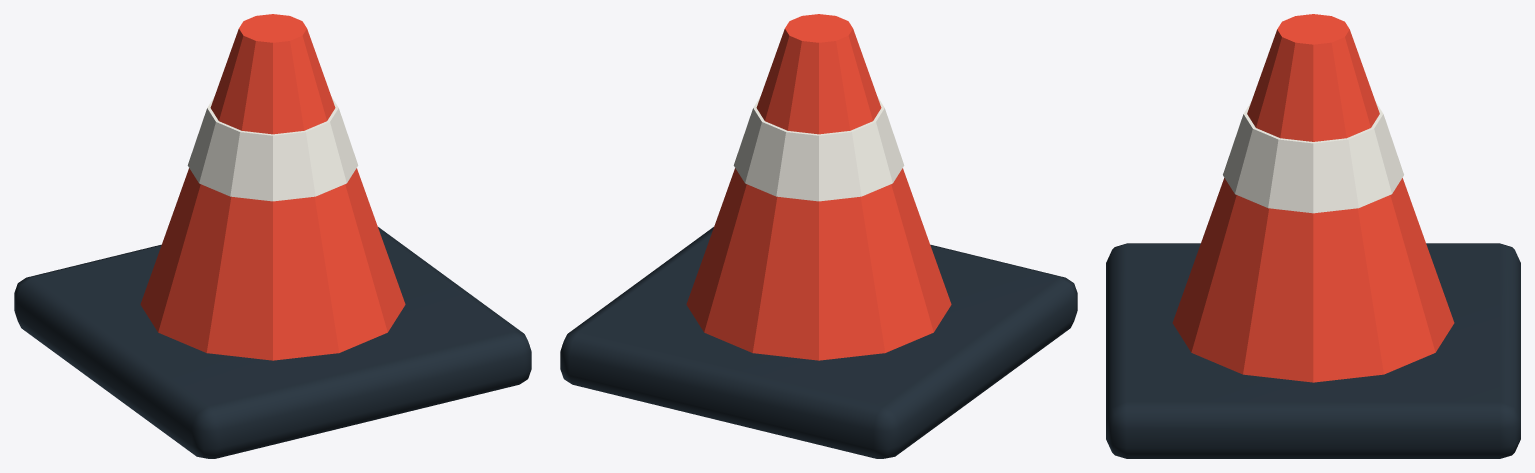
3 renders of one model, left to right at view 1: azimuth 30°, elevation 25°; view 2: azimuth 150°, elevation 25°; view 3: azimuth 270°, elevation 25°, orthographic. The views are drawn at different scales.
Visible parts, largest first — view 1: Cone_rubber, Cone_red, Cone_white; view 2: Cone_rubber, Cone_red, Cone_white; view 3: Cone_rubber, Cone_red, Cone_white.
Boxes of the visible parts, x1,y1,x2,y2 form: Cone_rubber: [14, 227, 531, 458]; Cone_red: [140, 14, 405, 360]; Cone_white: [187, 97, 358, 201]; Cone_rubber: [560, 227, 1077, 458]; Cone_red: [686, 14, 951, 360]; Cone_white: [733, 97, 904, 201]; Cone_rubber: [1106, 243, 1520, 458]; Cone_red: [1172, 14, 1454, 382]; Cone_white: [1223, 102, 1403, 213].
Size of the model in its own units: 0.8 by 0.745 by 0.8.
